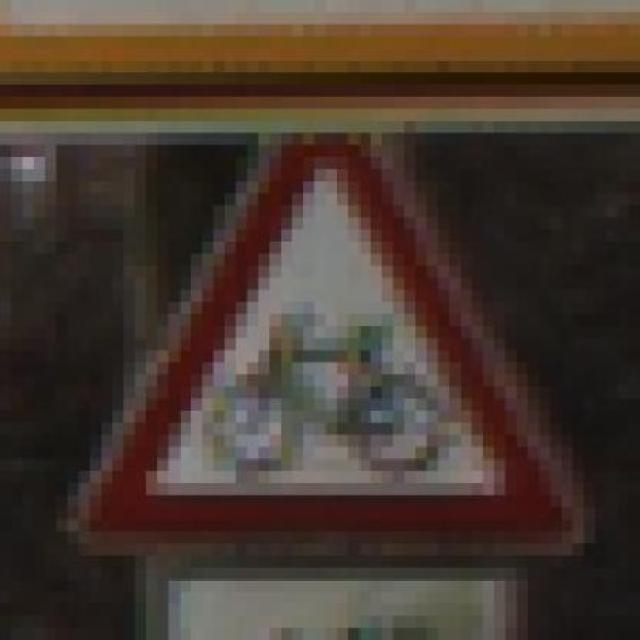CYCLE ROUTE AHEAD WARNING: (67, 145, 607, 580)
